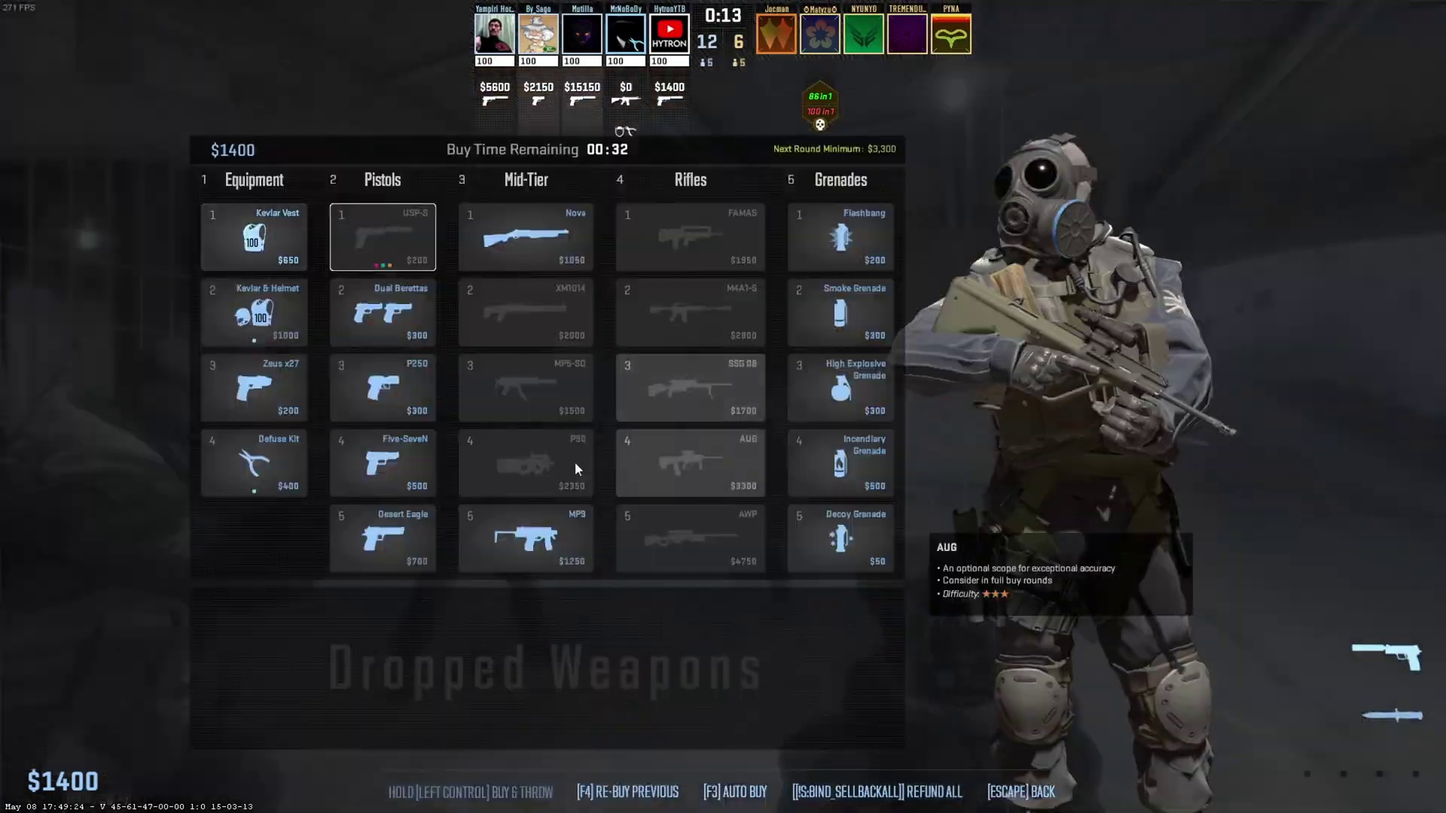CT: (944, 132, 1212, 811)
